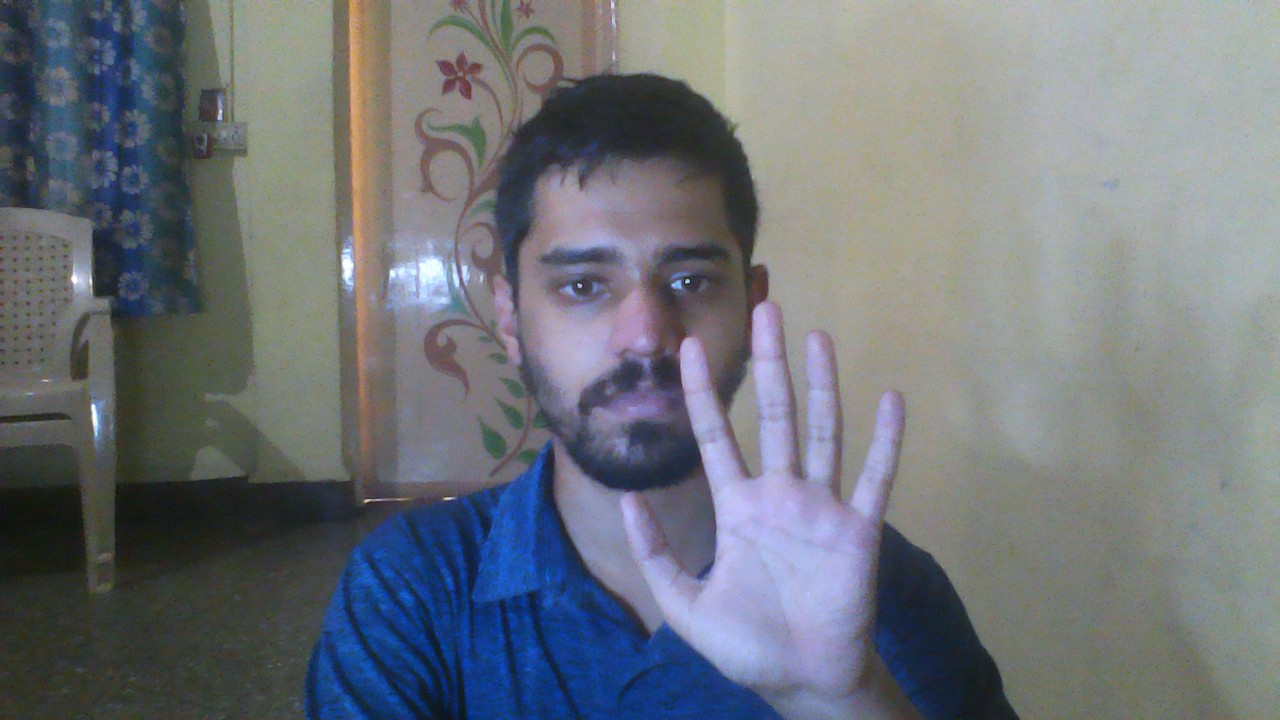hello: (607, 297, 951, 705)
